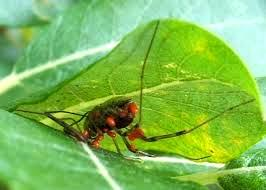Helopeltis-insect: (64, 92, 149, 161)
